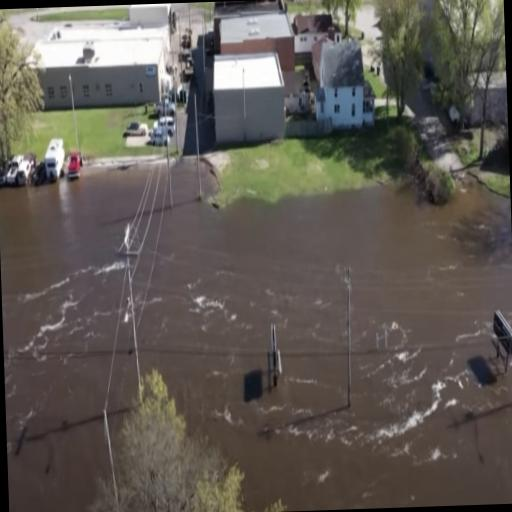flood: (137, 156, 512, 512), (0, 165, 147, 512)
house: (22, 3, 176, 114), (210, 50, 288, 148), (208, 0, 295, 66), (316, 37, 374, 136)
